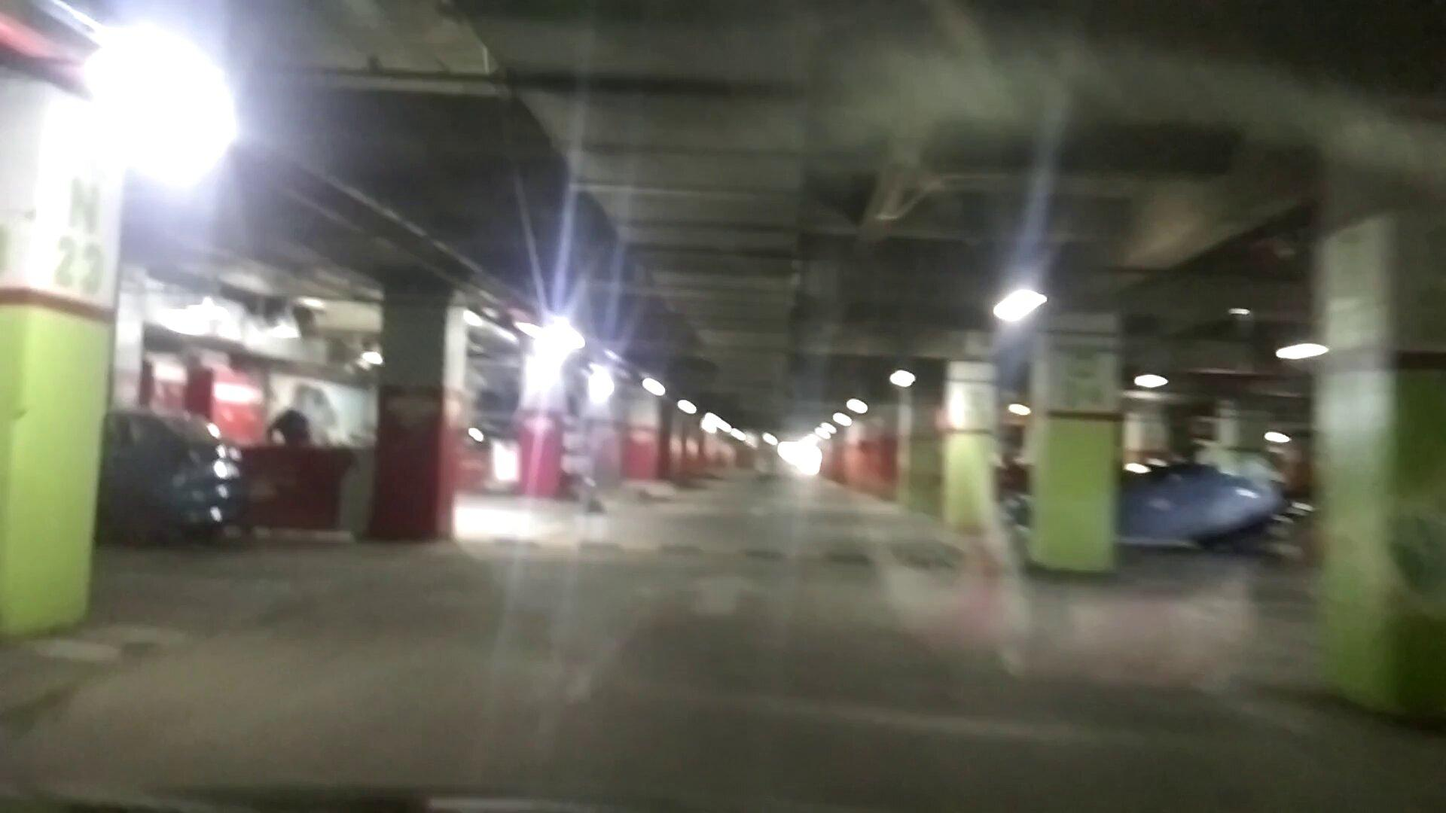Bump: (457, 521, 1016, 587)
